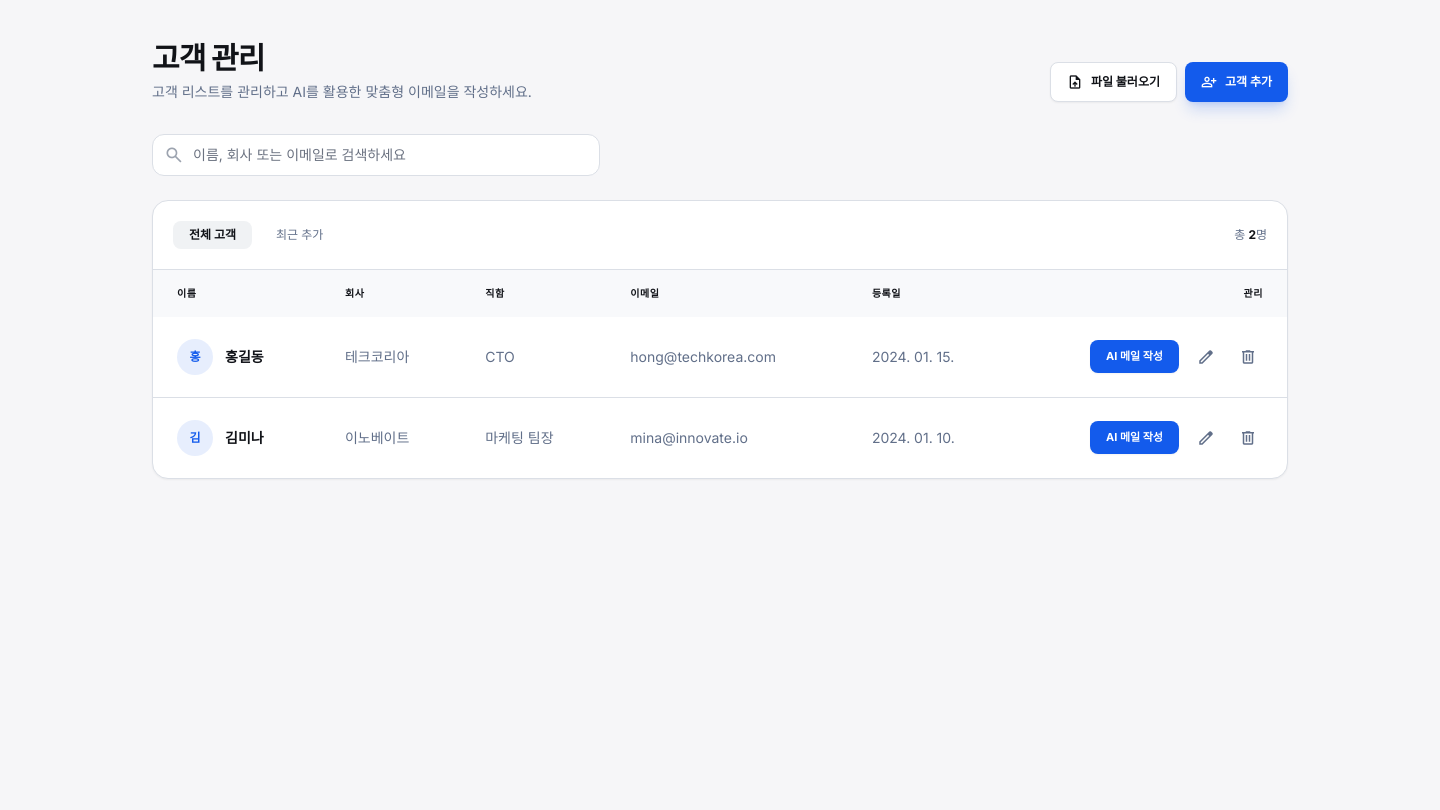
it: CustomerManagement › 고객 추가 모달 › 고객 추가 버튼 클릭 시 모달이 열린다
Expected: the text "홍길동" is shown, x1=225 y1=346 x2=264 y2=366
Click the button "고객 추가": {"x": 1236, "y": 82} x1=1185 y1=62 x2=1288 y2=102
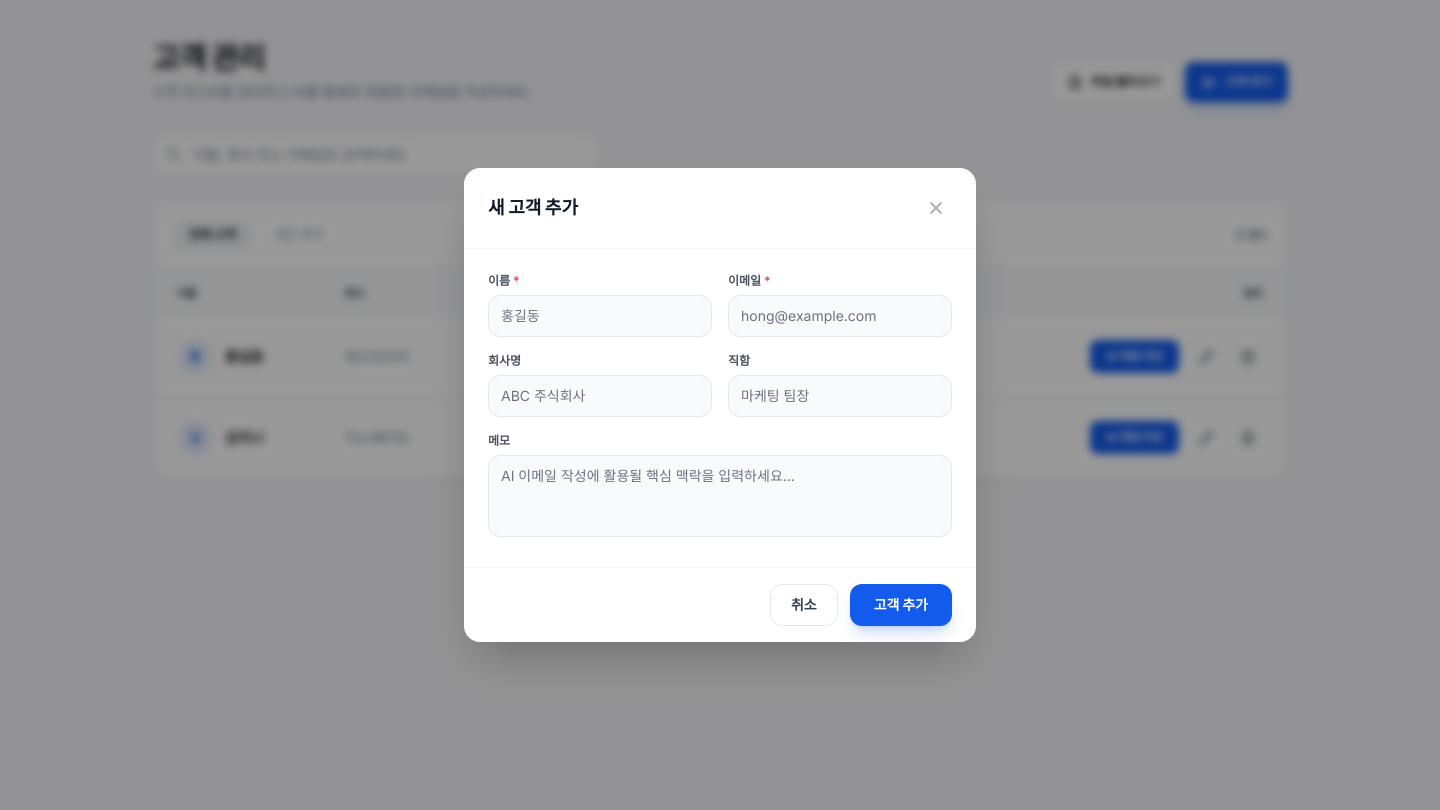
Expected: the heading "새 고객 추가" is shown, x1=488 y1=194 x2=578 y2=222
Expected: the field with placeholder "홍길동" is shown, x1=488 y1=295 x2=712 y2=337
